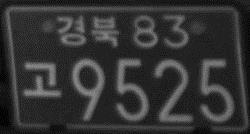2: (154, 57, 194, 124)
3: (162, 12, 189, 49)
5: (199, 57, 235, 123), (114, 57, 149, 122)
8: (132, 13, 157, 48)
9: (70, 57, 105, 121)
경북_O: (56, 13, 120, 47)
고: (22, 59, 62, 98)
